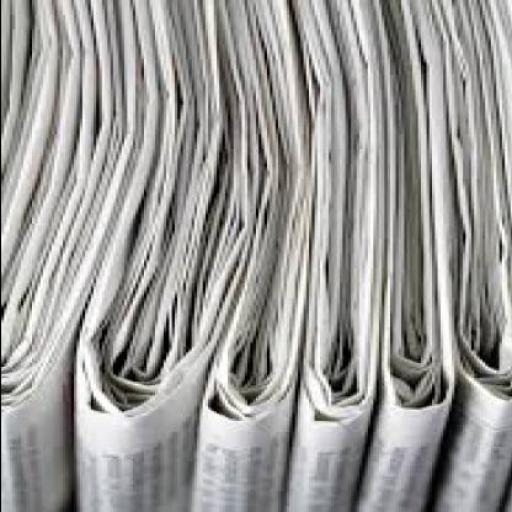paper: (1, 0, 511, 511), (69, 0, 230, 511), (194, 0, 296, 511), (282, 0, 375, 511), (376, 0, 456, 511), (1, 0, 73, 511), (456, 0, 510, 511)
